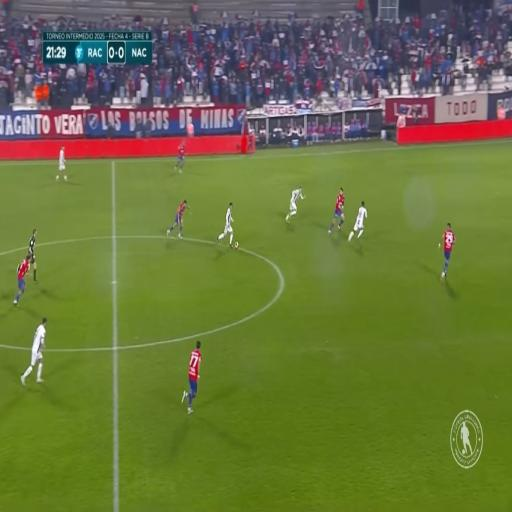Ball: (234, 239, 239, 249)
Player: (24, 320, 47, 393), (186, 330, 204, 411), (219, 201, 236, 254), (13, 257, 32, 301), (440, 222, 455, 276), (169, 197, 187, 239), (352, 202, 367, 246), (287, 188, 304, 222), (334, 186, 344, 232), (174, 138, 186, 176), (59, 140, 66, 186)
Referee: (28, 230, 38, 287)
